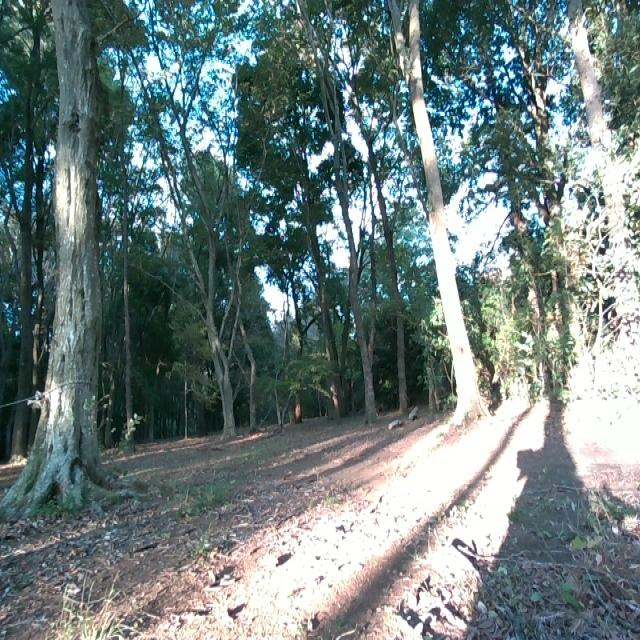tree: (25, 0, 113, 520), (393, 0, 490, 432), (570, 0, 640, 380), (522, 2, 586, 378), (344, 184, 383, 420), (200, 229, 243, 440)
